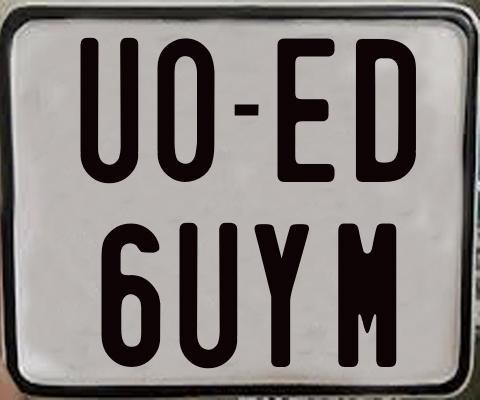0: (156, 37, 218, 186)
6: (100, 223, 161, 370)
D: (355, 39, 415, 185)
E: (277, 35, 341, 179)
M: (337, 221, 400, 367)
U: (177, 222, 237, 368), (78, 37, 137, 185)
Y: (254, 222, 313, 365)
